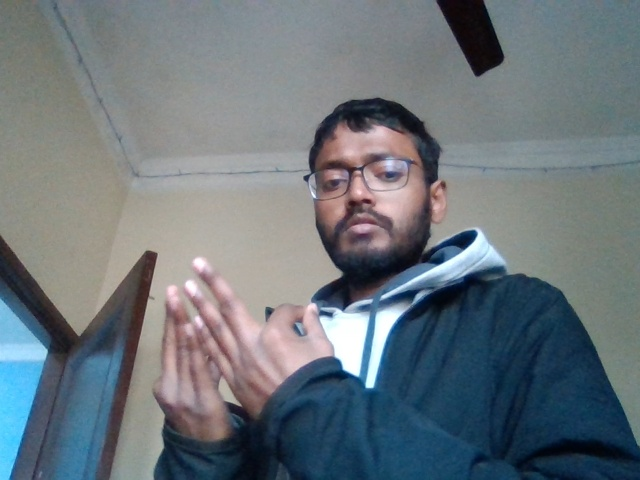family: (142, 261, 332, 430)
